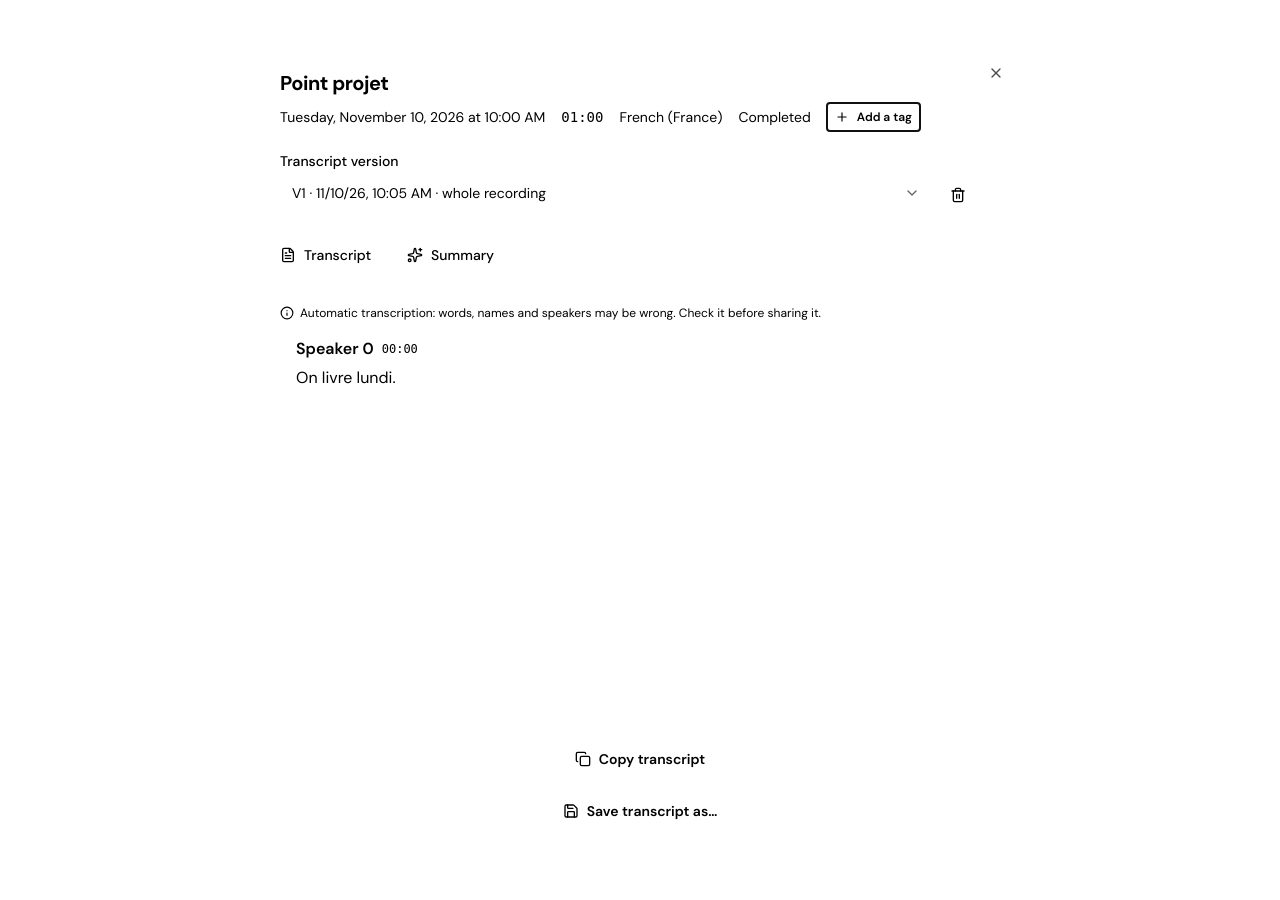
MeetingDetailModal — onglet Résumé › génère le résumé de la transcription affichée et l’enregistre dans la version
The image size is (1280, 900).
What coordinates should you click on to do the following:
click the tab "Summary"
I would click on:
 (451, 255)
Its box is [391,229,510,281].
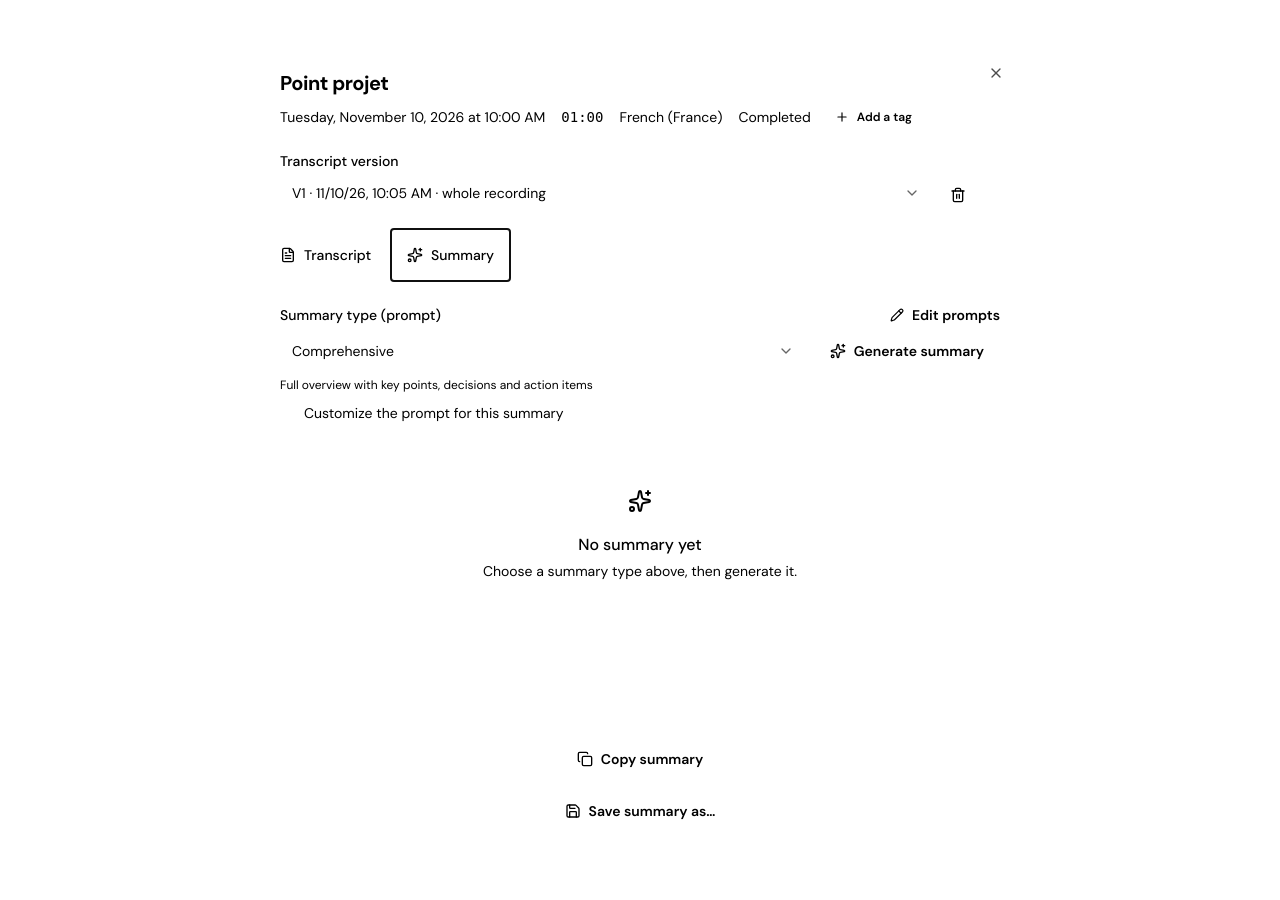
Expected: the text "No summary yet" is shown, [578,534,702,555]
What coordinates should you click on to do the following:
click the button "Generate summary"
I would click on:
 (907, 351)
Its box is [814,331,1000,371].
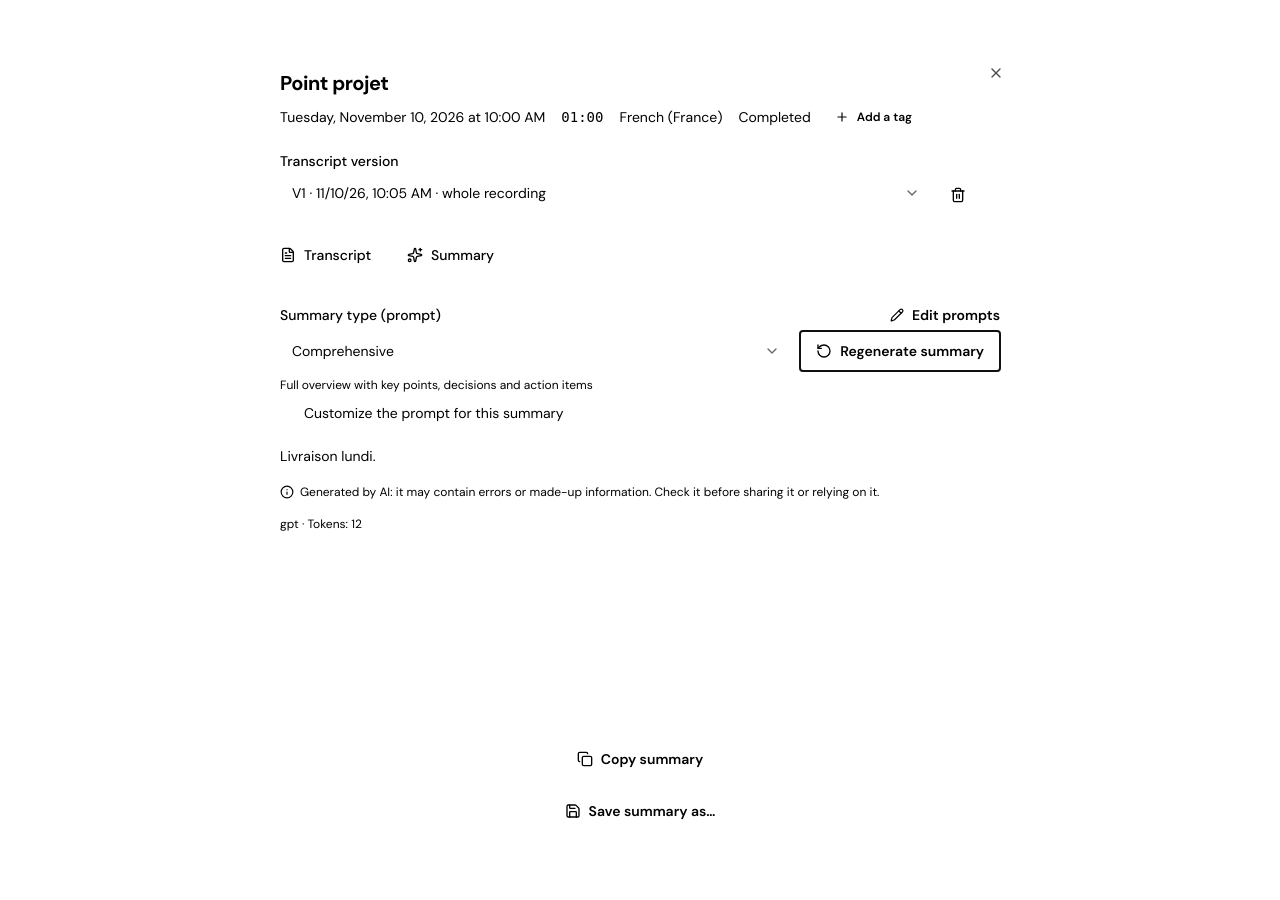
Expected: the button "Copy summary" is enabled, [280,739,1000,779]
Expected: the text "Livraison lundi." is shown, [280,447,376,465]
Expected: the button "Regenerate summary" is shown, [800,331,1000,371]
